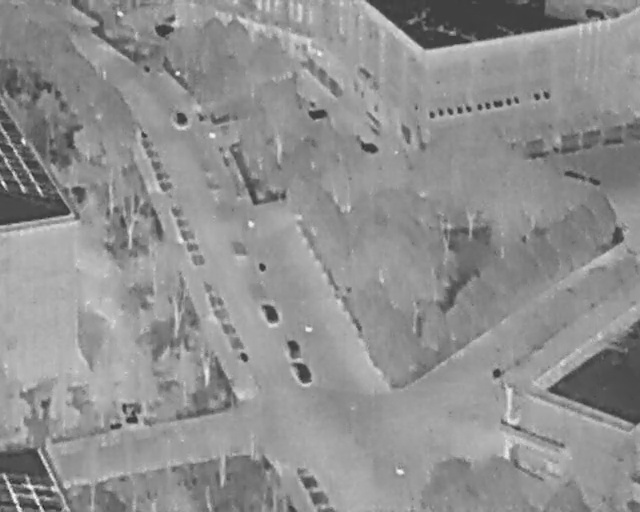Car: (290, 358, 315, 387), (260, 301, 279, 325), (284, 336, 303, 360), (172, 109, 189, 127)
